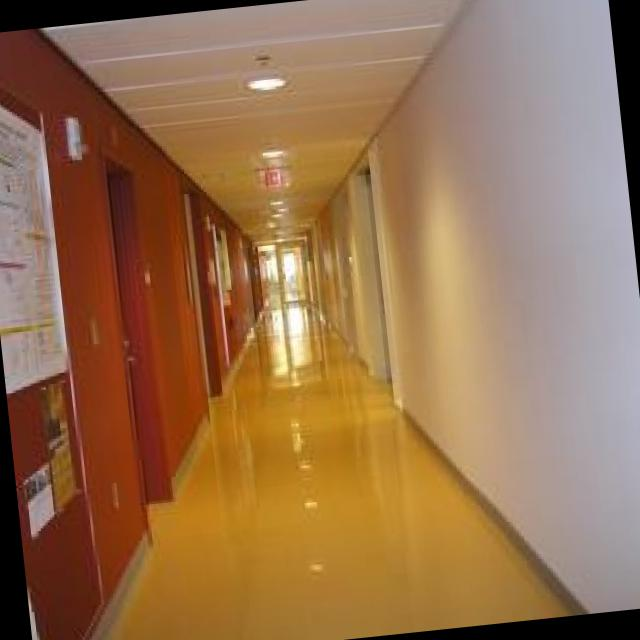ceiling beam: (38, 0, 470, 234)
door bars: (106, 154, 175, 534), (353, 164, 395, 388), (274, 244, 305, 304)
exit sign: (261, 165, 286, 188)
floor -X: (106, 306, 572, 640)
light fixture: (65, 116, 86, 155), (245, 71, 290, 89), (262, 144, 285, 156)
paper cup with straws: (23, 461, 56, 536)
papers: (43, 379, 81, 508)
poster crop: (0, 103, 71, 393)
wall clock: (308, 0, 640, 611), (0, 28, 263, 640)
